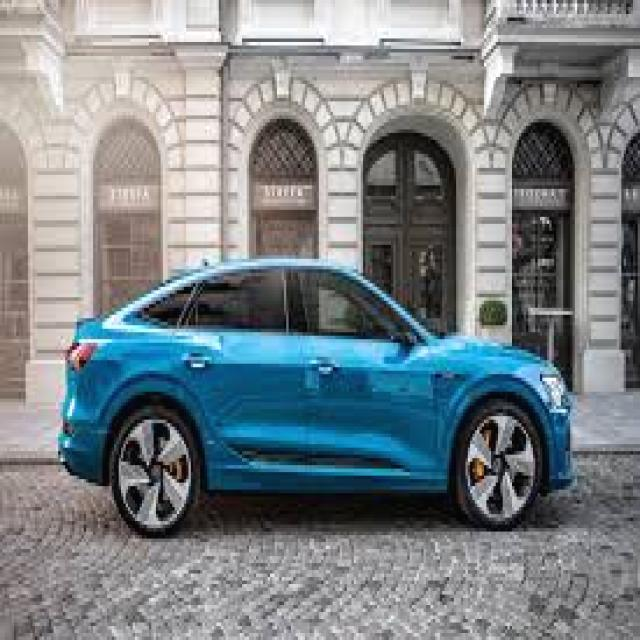SUV: (56, 256, 578, 536)
